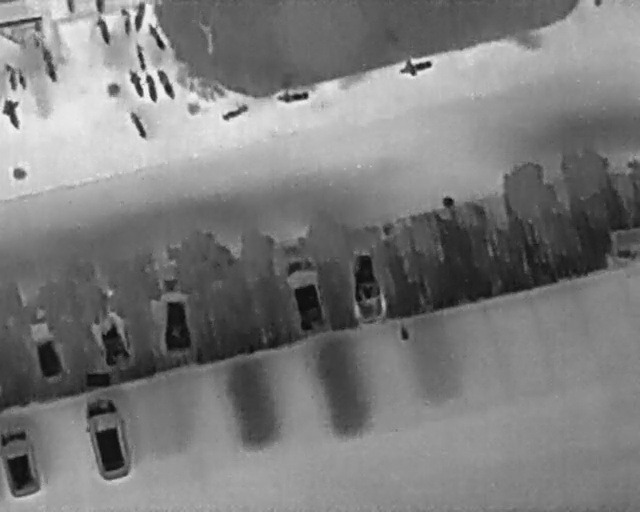Bicycle: (395, 54, 435, 82), (142, 19, 171, 54), (153, 65, 179, 104), (37, 43, 60, 85), (124, 107, 150, 143), (0, 96, 26, 132), (125, 65, 149, 102), (218, 99, 251, 124), (274, 84, 312, 104), (92, 14, 113, 47), (143, 69, 162, 105), (130, 39, 150, 73), (1, 62, 21, 93), (132, 0, 148, 34), (13, 68, 29, 93), (120, 8, 132, 36), (95, 0, 105, 13), (66, 0, 75, 13)
Car: (77, 389, 139, 485), (81, 285, 139, 375), (281, 253, 333, 339), (17, 298, 69, 384), (345, 247, 390, 328), (153, 276, 196, 357), (0, 424, 43, 500)
